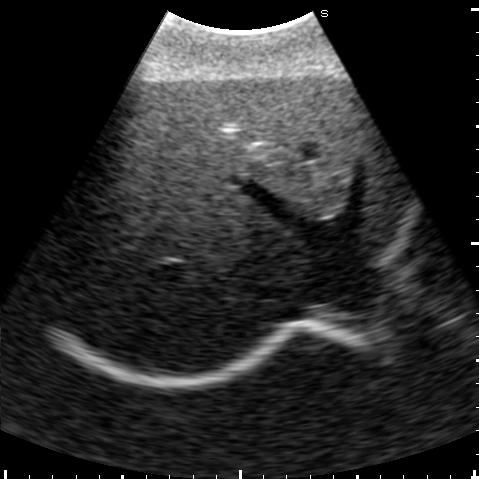S2: (360, 118, 402, 251)
S4: (132, 75, 360, 216)
S7: (49, 250, 263, 374)
S8: (92, 151, 305, 288)
Tumor: (217, 121, 239, 133)
